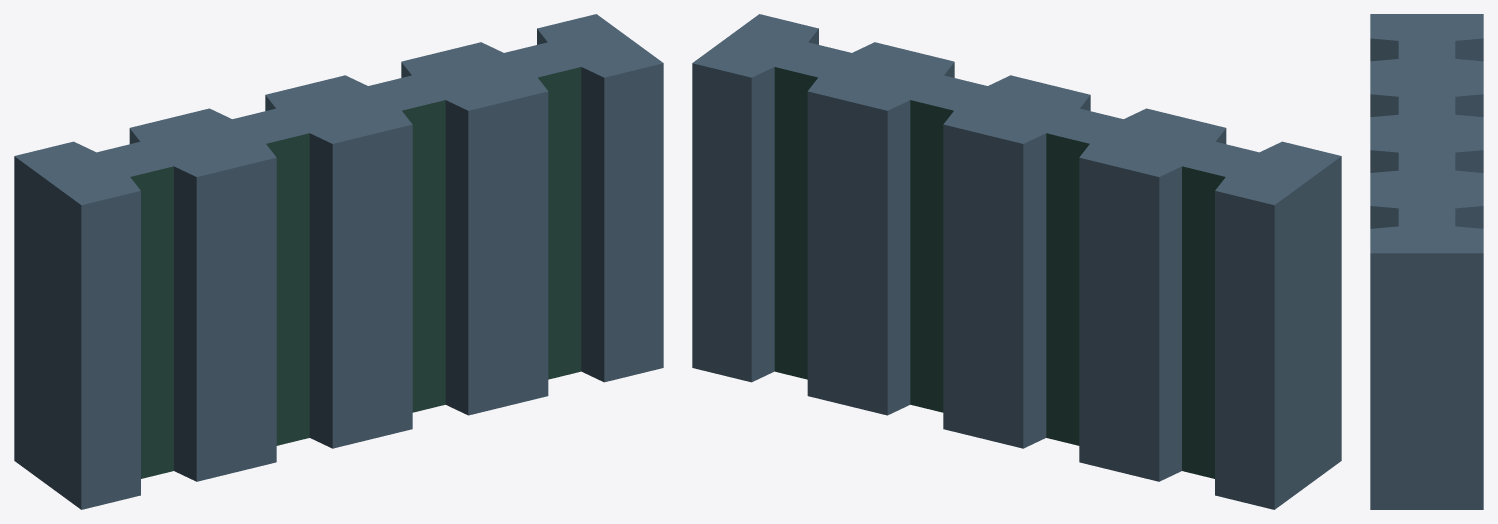
The model's file is W1_Wall_Ridge2Double_Top.fbx.
3 views of the same model, side by side, from view 1: azimuth 30°, elevation 25°; view 2: azimuth 150°, elevation 25°; view 3: azimuth 270°, elevation 25° (orthographic). The views are drawn at different scales.
Parts seen in each view (by area): view 1: W1_Wall_Ridge2Double_Top.001; view 2: W1_Wall_Ridge2Double_Top.001; view 3: W1_Wall_Ridge2Double_Top.001.
Part boxes in pixels (x1,y1,x2,y2): W1_Wall_Ridge2Double_Top.001: (14,14,663,509); W1_Wall_Ridge2Double_Top.001: (692,14,1341,509); W1_Wall_Ridge2Double_Top.001: (1370,14,1483,509).
Size of the model in its own units: 1 by 0.5 by 0.2.
